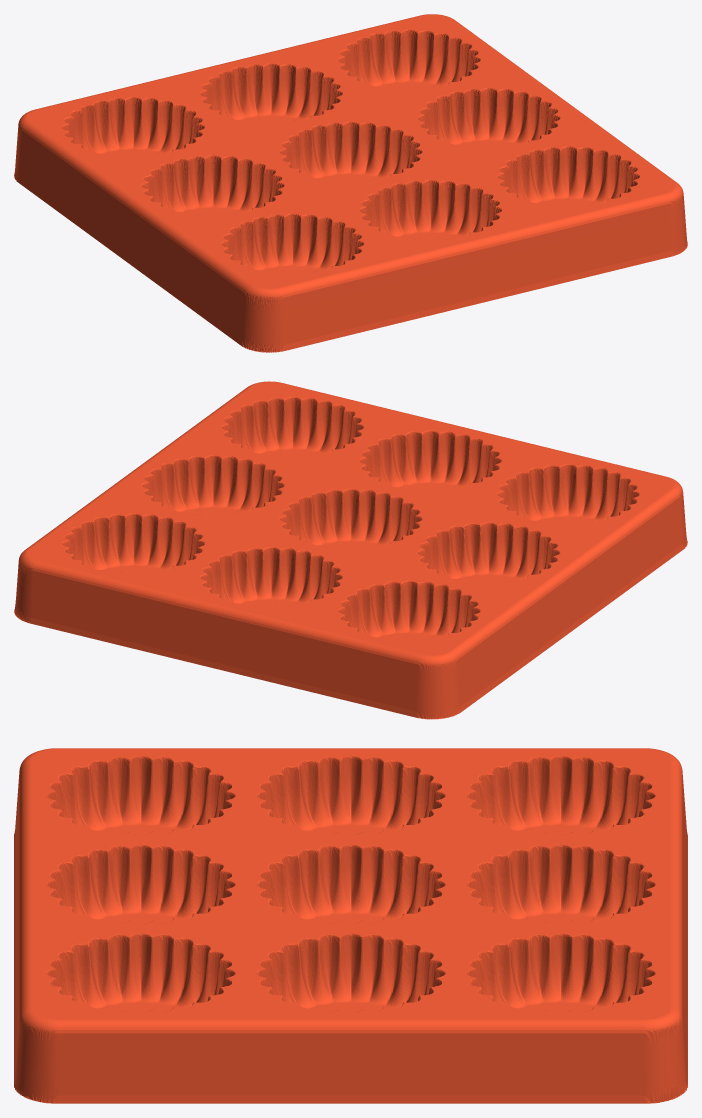
Rendered from mold.glb.
3 views of the same model, one above another, from view 1: azimuth 30°, elevation 25°; view 2: azimuth 150°, elevation 25°; view 3: azimuth 270°, elevation 25° (orthographic). The views are drawn at different scales.
Parts seen in each view (by area): view 1: geometry_0; view 2: geometry_0; view 3: geometry_0.
Part boxes in pixels (box(x1,y1,x2,y2)): geometry_0: box(14, 14, 687, 352); geometry_0: box(14, 381, 687, 719); geometry_0: box(14, 748, 687, 1103).
Bounding box in the file's own units: 0.1387 × 0.0175 × 0.1387.
